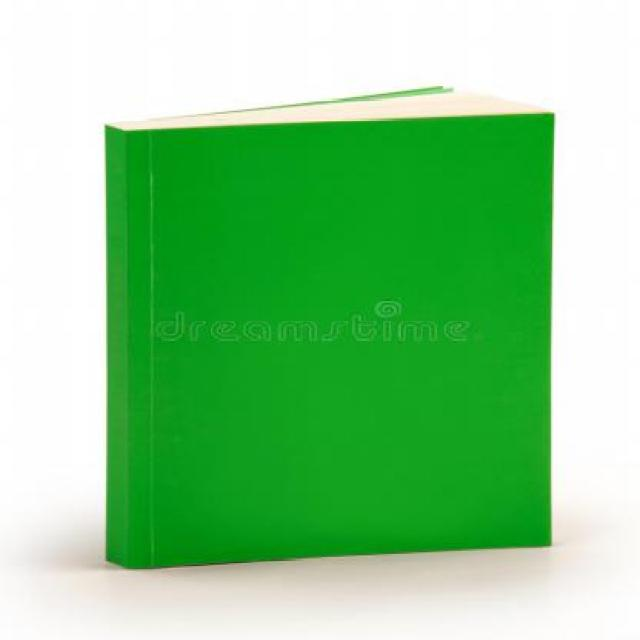book: (65, 91, 594, 608)
